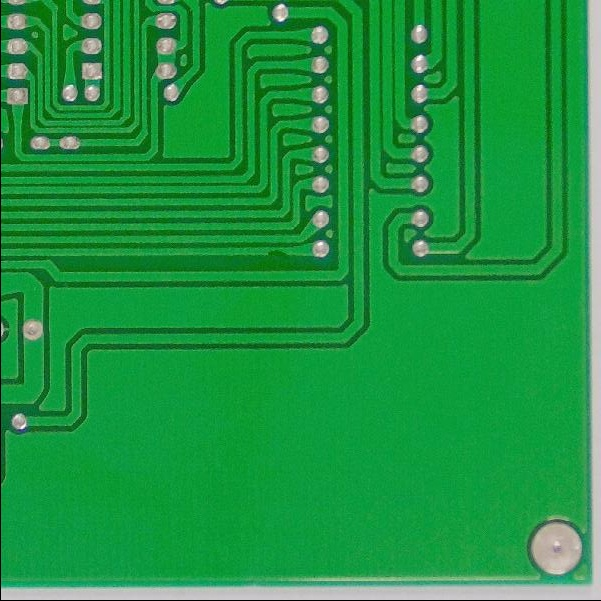mouse_bite: (262, 246, 289, 263)
